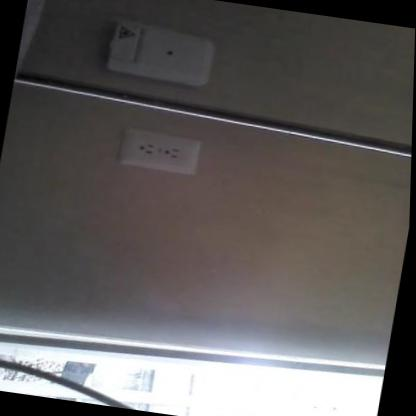OUTLET: (116, 125, 202, 174)
